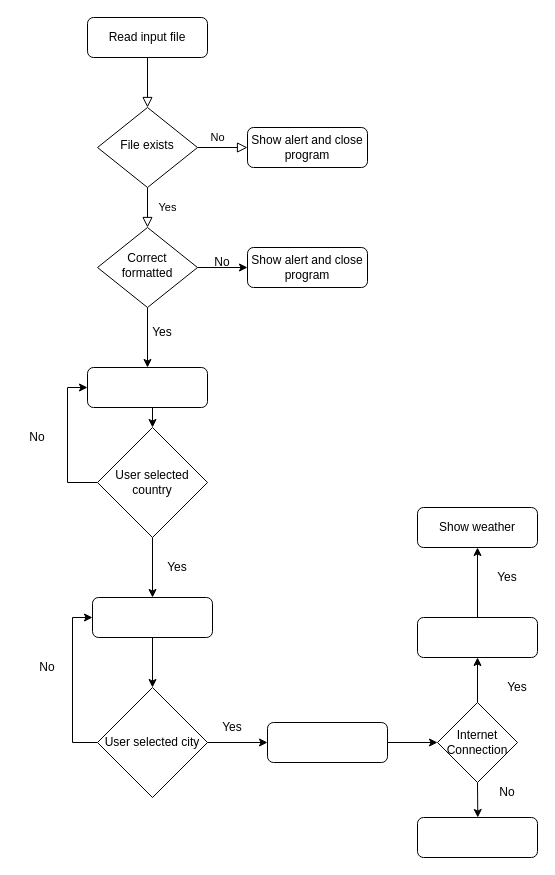
Some shapes in this 555 by 875 pixel diagram are drawn without their labels. The centre of each missing label's shape, as x and y in pixels:
"Make Api Request" goes at point 327,742.
"Parse answer" goes at point 477,637.
"Show Alert Close program" goes at point 477,837.
"Show city list" goes at point 152,617.
"Show country list" goes at point 147,387.
